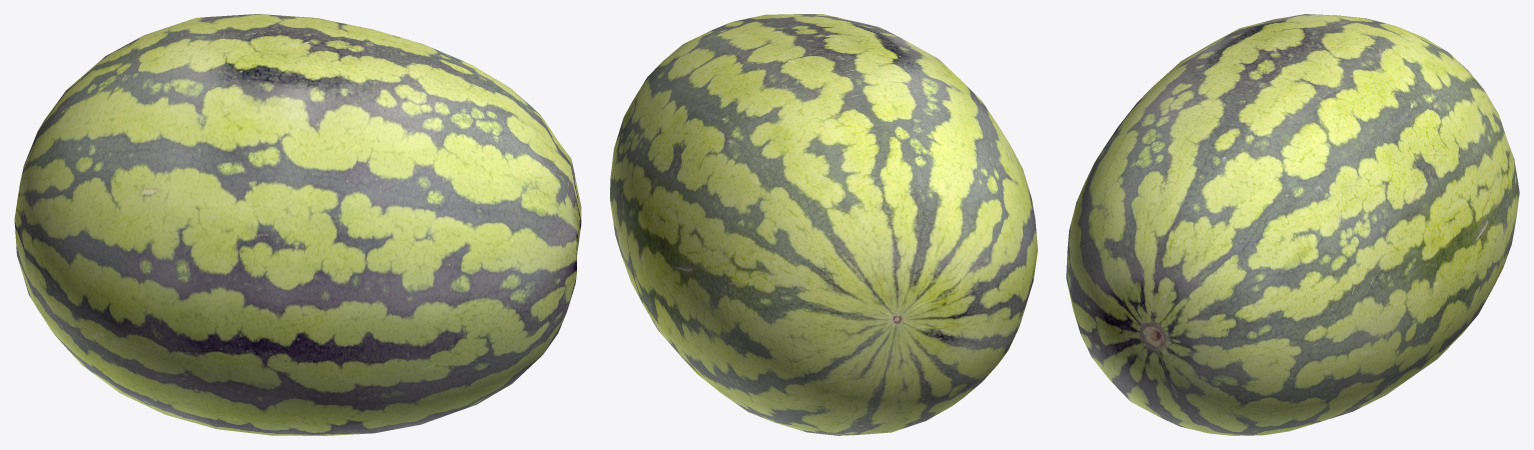
Rendered from watermelon.glb.
The picture shows the model from 3 angles, left to right: view 1: azimuth 30°, elevation 25°; view 2: azimuth 150°, elevation 25°; view 3: azimuth 270°, elevation 25°; orthographic projection. The views are drawn at different scales.
Visible parts, largest first — view 1: Watermelon_Watermelon PBR_0; view 2: Watermelon_Watermelon PBR_0; view 3: Watermelon_Watermelon PBR_0.
Boxes of the visible parts, box(x1,y1,x2,y2) form: Watermelon_Watermelon PBR_0: box(14, 14, 581, 435); Watermelon_Watermelon PBR_0: box(610, 14, 1037, 435); Watermelon_Watermelon PBR_0: box(1066, 14, 1519, 435).
Bounding box in the file's own units: 0.7931 × 0.6266 × 0.7277.
1 material, 1 textured.
